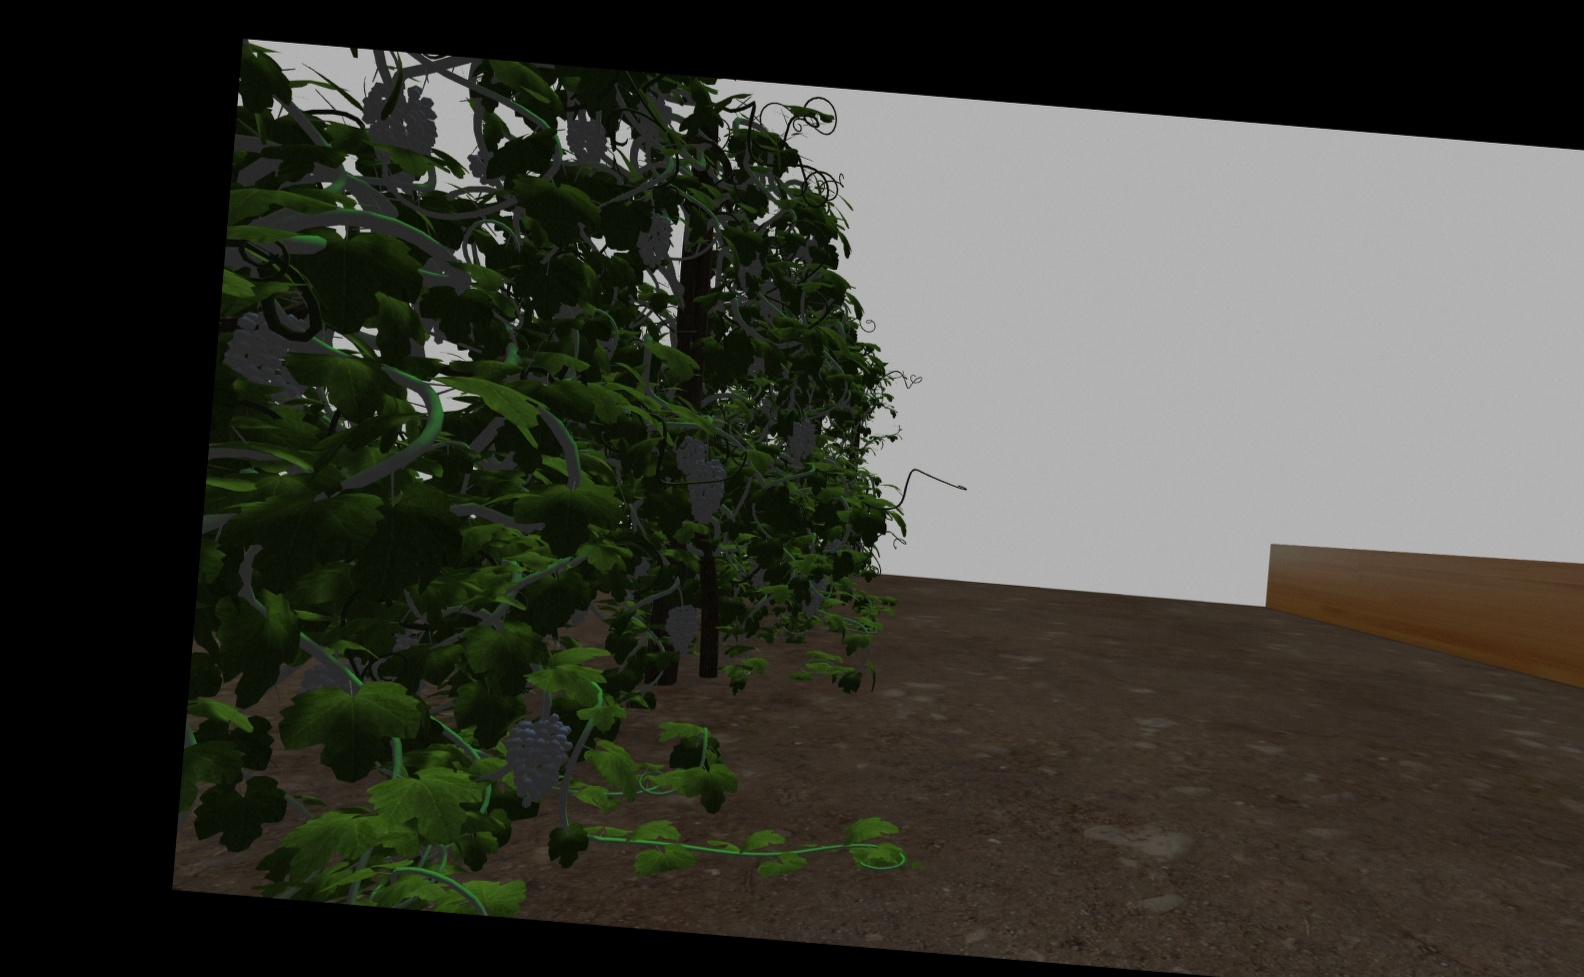grape: (223, 310, 315, 400), (359, 80, 440, 164), (503, 711, 570, 809), (687, 460, 726, 524), (637, 211, 674, 269), (664, 603, 701, 656), (566, 116, 608, 162), (674, 434, 708, 476), (787, 417, 818, 460), (801, 574, 827, 620), (757, 280, 783, 318)
